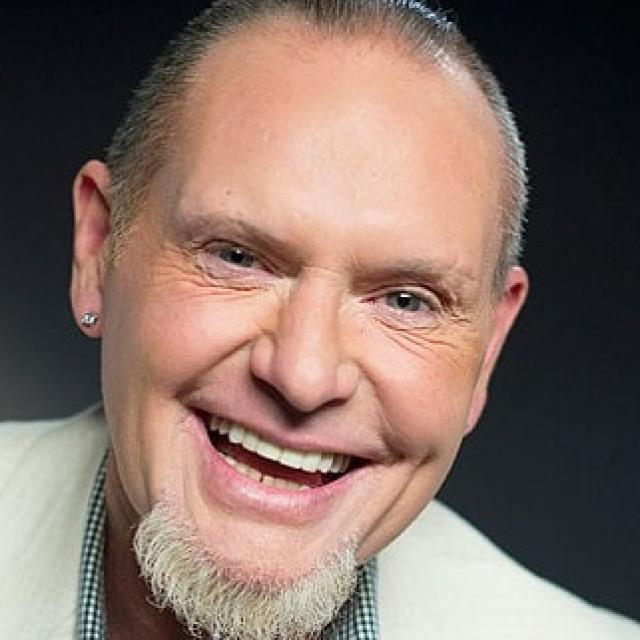Normal: (101, 32, 512, 603)
